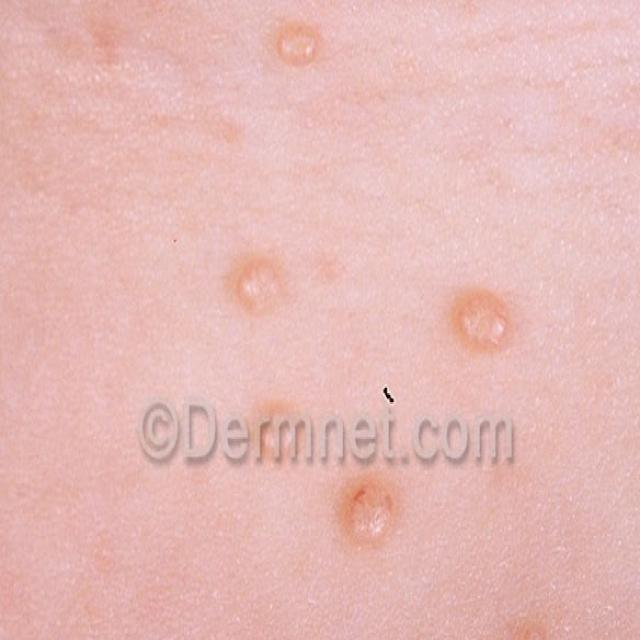Viral Infections: (252, 0, 360, 108), (441, 276, 541, 382), (219, 252, 286, 340), (340, 476, 396, 551), (503, 601, 562, 640)
